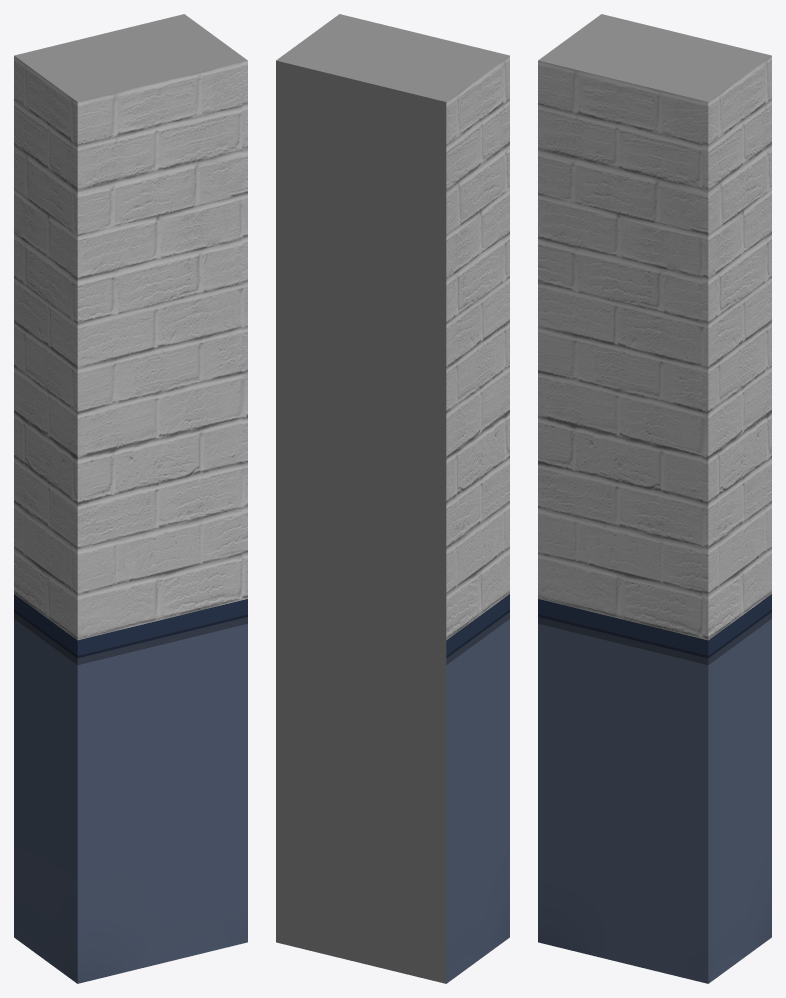
File: Column.FBX
3 views of the same model, side by side, from view 1: azimuth 30°, elevation 25°; view 2: azimuth 150°, elevation 25°; view 3: azimuth 330°, elevation 25° (orthographic).
Visible parts, largest first — view 1: column; view 2: column; view 3: column.
Part boxes in pixels (<box>): column: <box>14,14,247,983</box>; column: <box>276,14,509,983</box>; column: <box>538,14,771,983</box>.
Bounding box in the file's own units: 53.7 × 266 × 34.7.
Materials: 2 (1 with a texture image).
